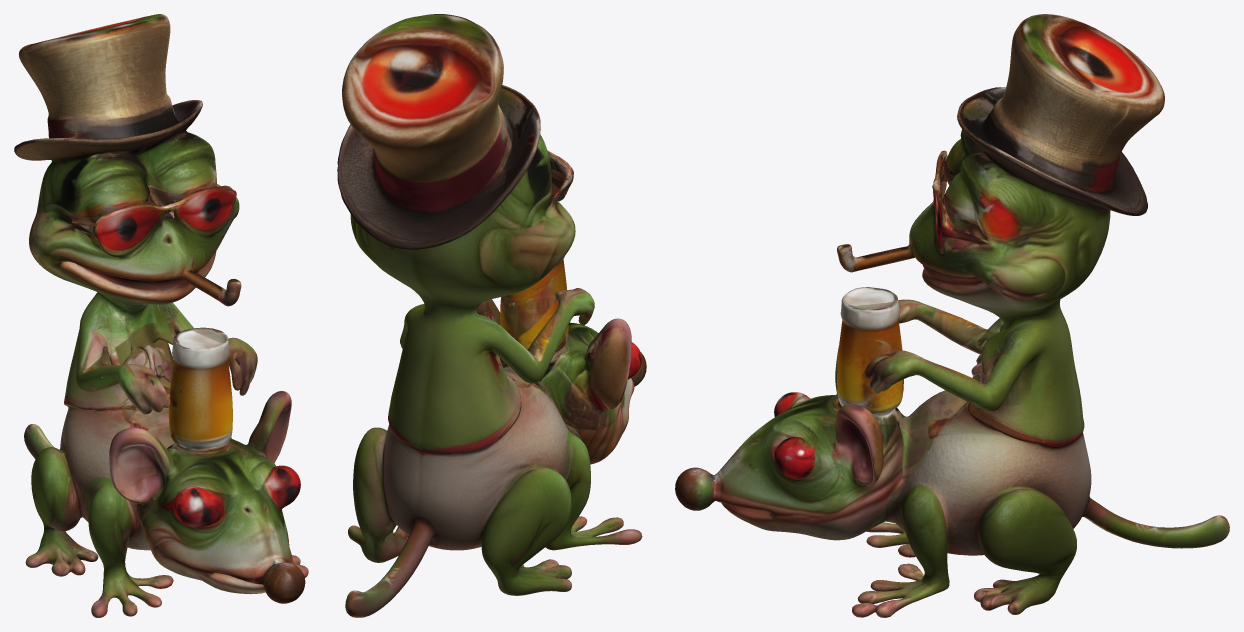
The model's file is pepe-frog-ride.glb.
The picture shows the model from 3 angles, left to right: view 1: azimuth 30°, elevation 25°; view 2: azimuth 150°, elevation 25°; view 3: azimuth 270°, elevation 25°; orthographic projection. The views are drawn at different scales.
Bounding box in the file's own units: 0.8415 × 2 × 1.86.
1 material, 1 textured.
